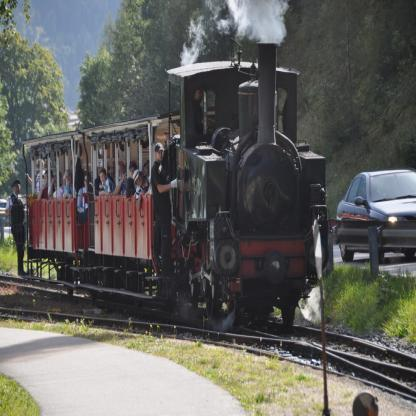Car: (334, 169, 416, 264)
